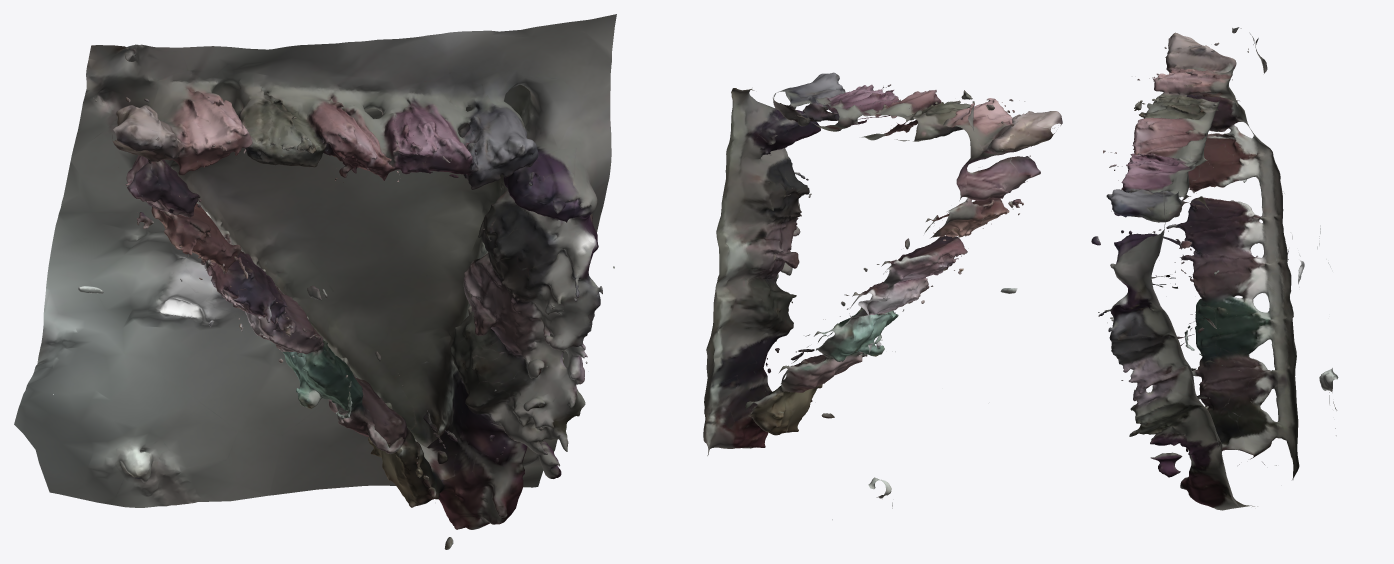
Rendered from charly.glb.
3 views of the same model, side by side, from view 1: azimuth 30°, elevation 25°; view 2: azimuth 150°, elevation 25°; view 3: azimuth 270°, elevation 25° (orthographic). The views are drawn at different scales.
Parts seen in each view (by area): view 1: 3DModel; view 2: 3DModel; view 3: 3DModel.
Boxes of the visible parts, x1,y1,x2,y2 form: 3DModel: (14,14,616,549); 3DModel: (703,72,1062,519); 3DModel: (1091,27,1338,510).
Size of the model in its own units: 2.72 by 3 by 2.04.
1 material, 1 textured.
